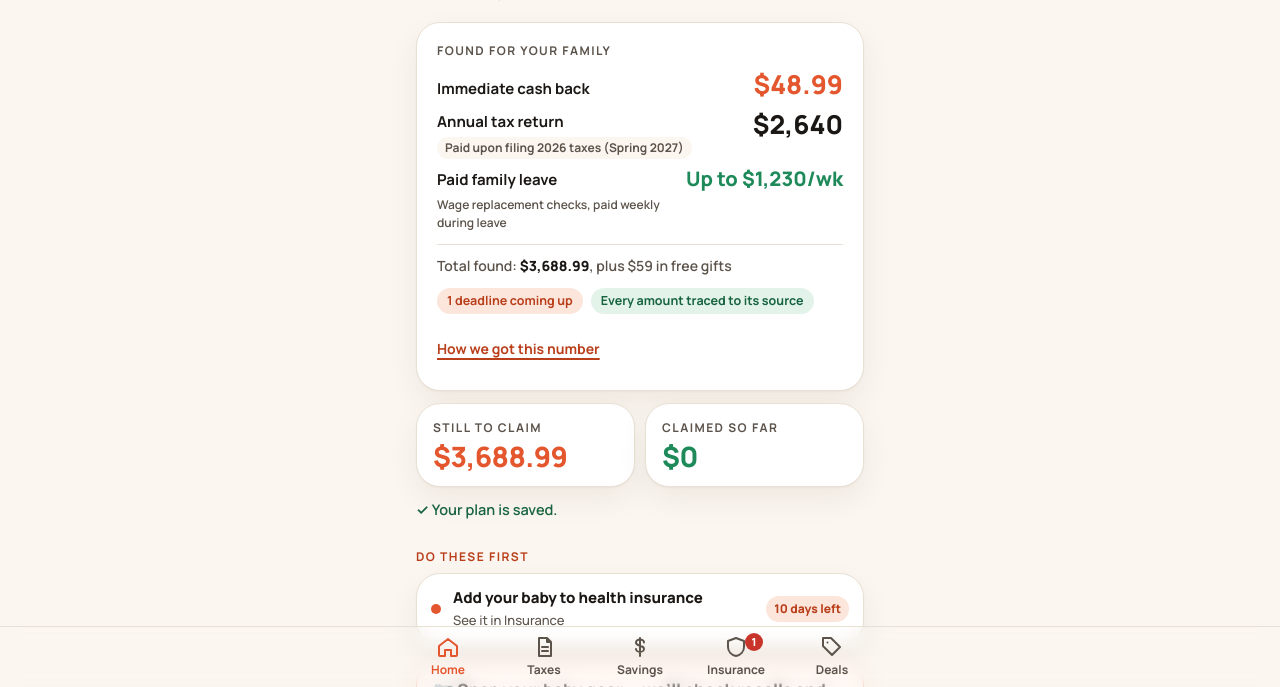
Scenario: the Gear Locker › opens from the Savings card ("Open ›"), lists gear and a receipt with its thumbnail, and has a Back button
Click the button "Savings": (640, 657) x1=592 y1=627 x2=688 y2=686
(page scrolled)
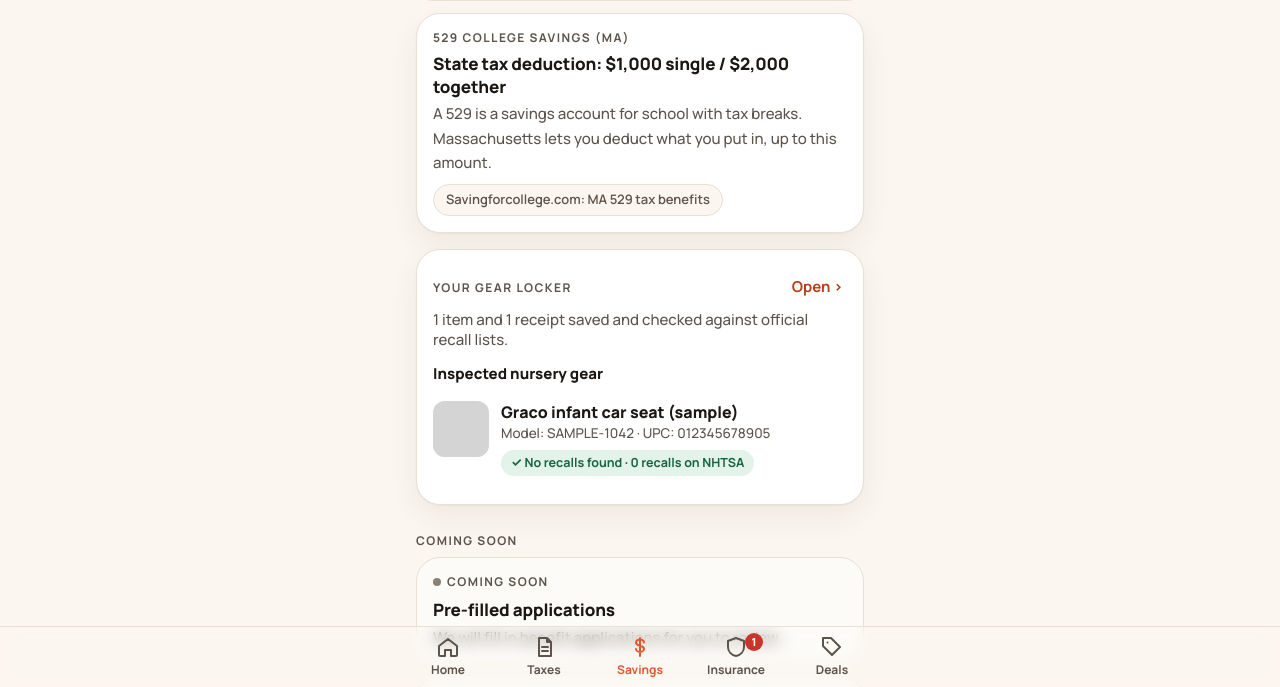
Check: the text "1 item and 1 receipt saved" is shown, box x1=433 y1=310 x2=847 y2=351
Click the button "Open ›": (817, 288) x1=788 y1=266 x2=847 y2=310
(page scrolled)
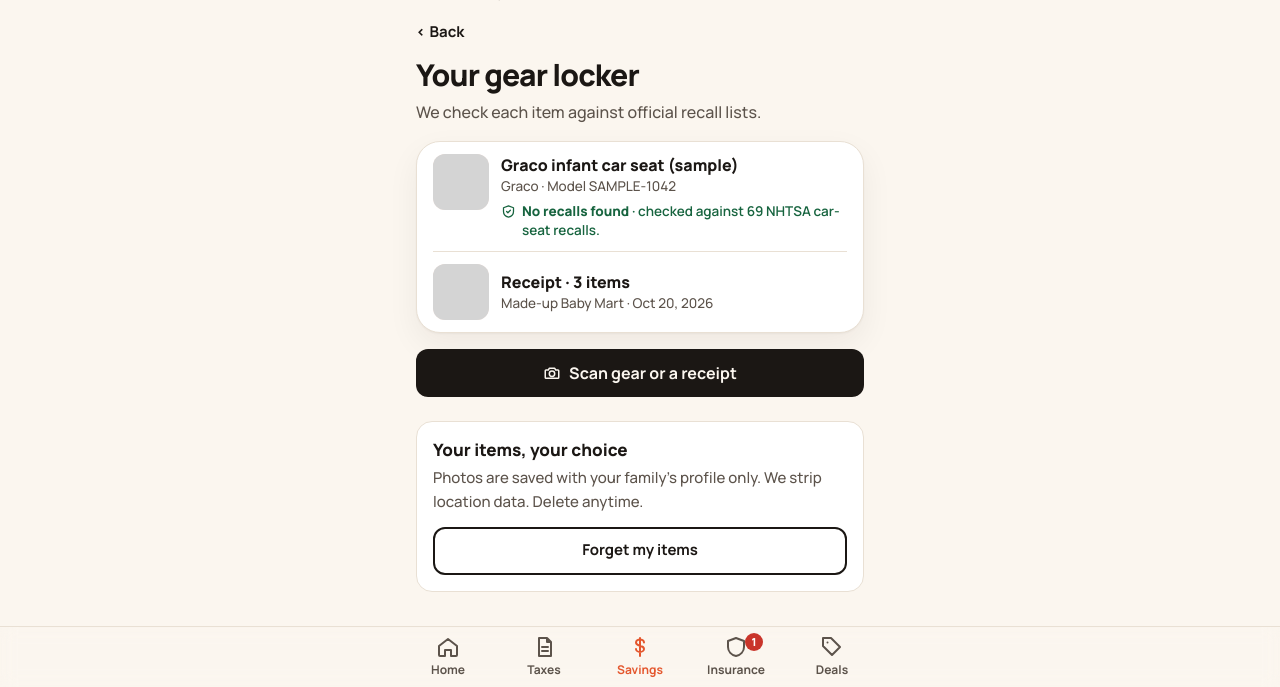
Check: the text "Graco infant car seat (sample)" is shown, box x1=501 y1=154 x2=738 y2=176
Check: the text "Graco · Model SAMPLE-1042" is shown, box x1=501 y1=177 x2=676 y2=195
Check: the text "69 NHTSA car-seat recalls" is shown, box x1=522 y1=202 x2=840 y2=239
Click the button "‹ Back": (440, 32) x1=412 y1=10 x2=468 y2=54
(page scrolled)
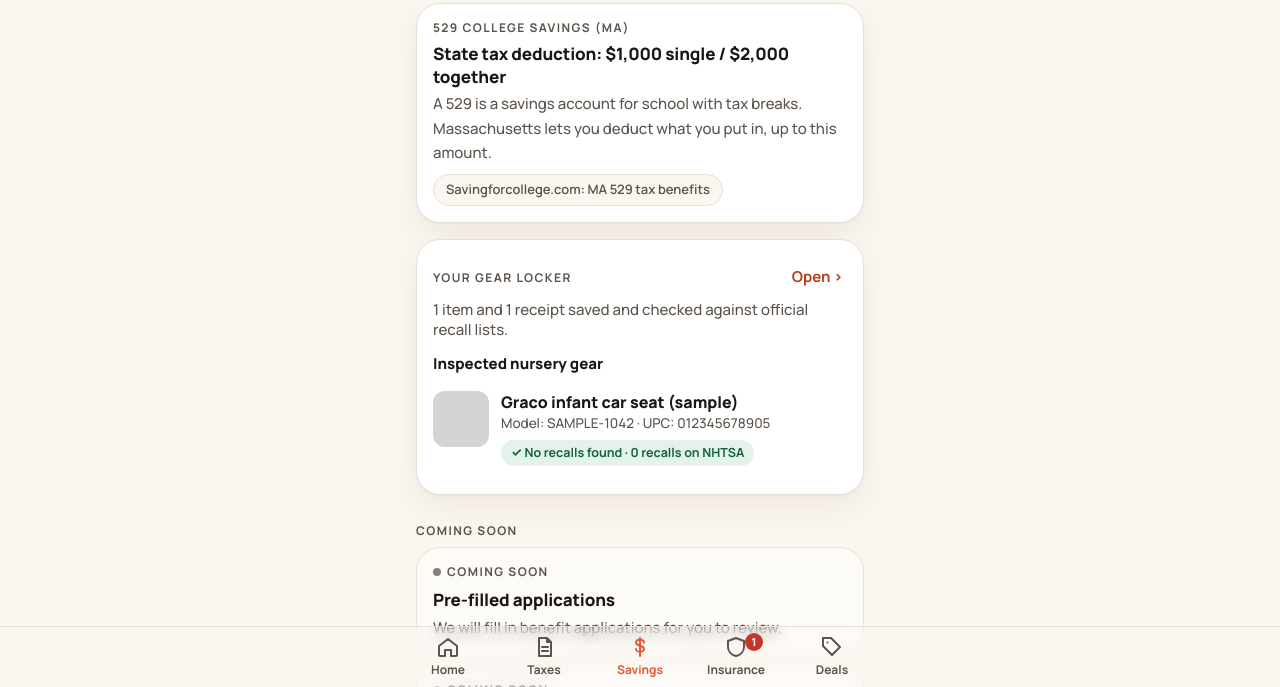
Check: the element with test id "gear-locker" is gone
Check: the element with test id "gear-locker-card" is shown, box x1=416 y1=238 x2=864 y2=495
